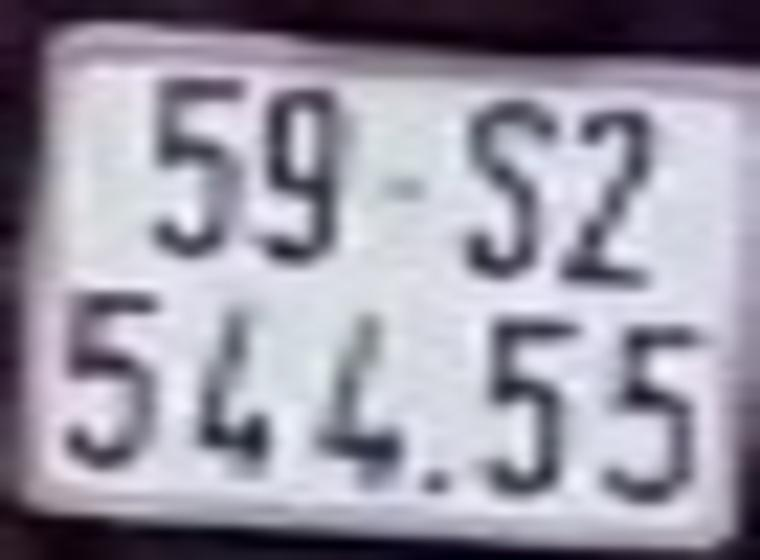-: (390, 179, 424, 203)
.: (421, 470, 449, 494)
2: (567, 110, 649, 285)
4: (317, 311, 401, 492), (200, 306, 266, 476)
5: (606, 320, 697, 505), (151, 73, 241, 259), (64, 287, 154, 470), (487, 316, 574, 500)
9: (263, 90, 338, 263)
S: (458, 103, 548, 278)
